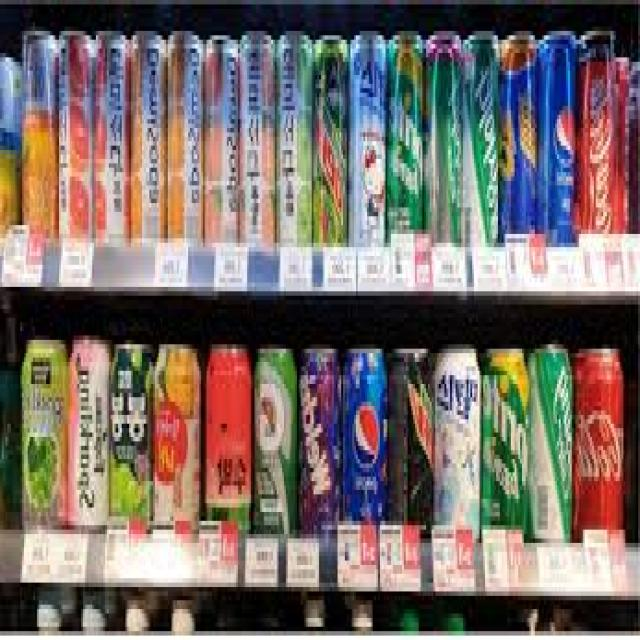Coca-Cola: (571, 340, 630, 579)
